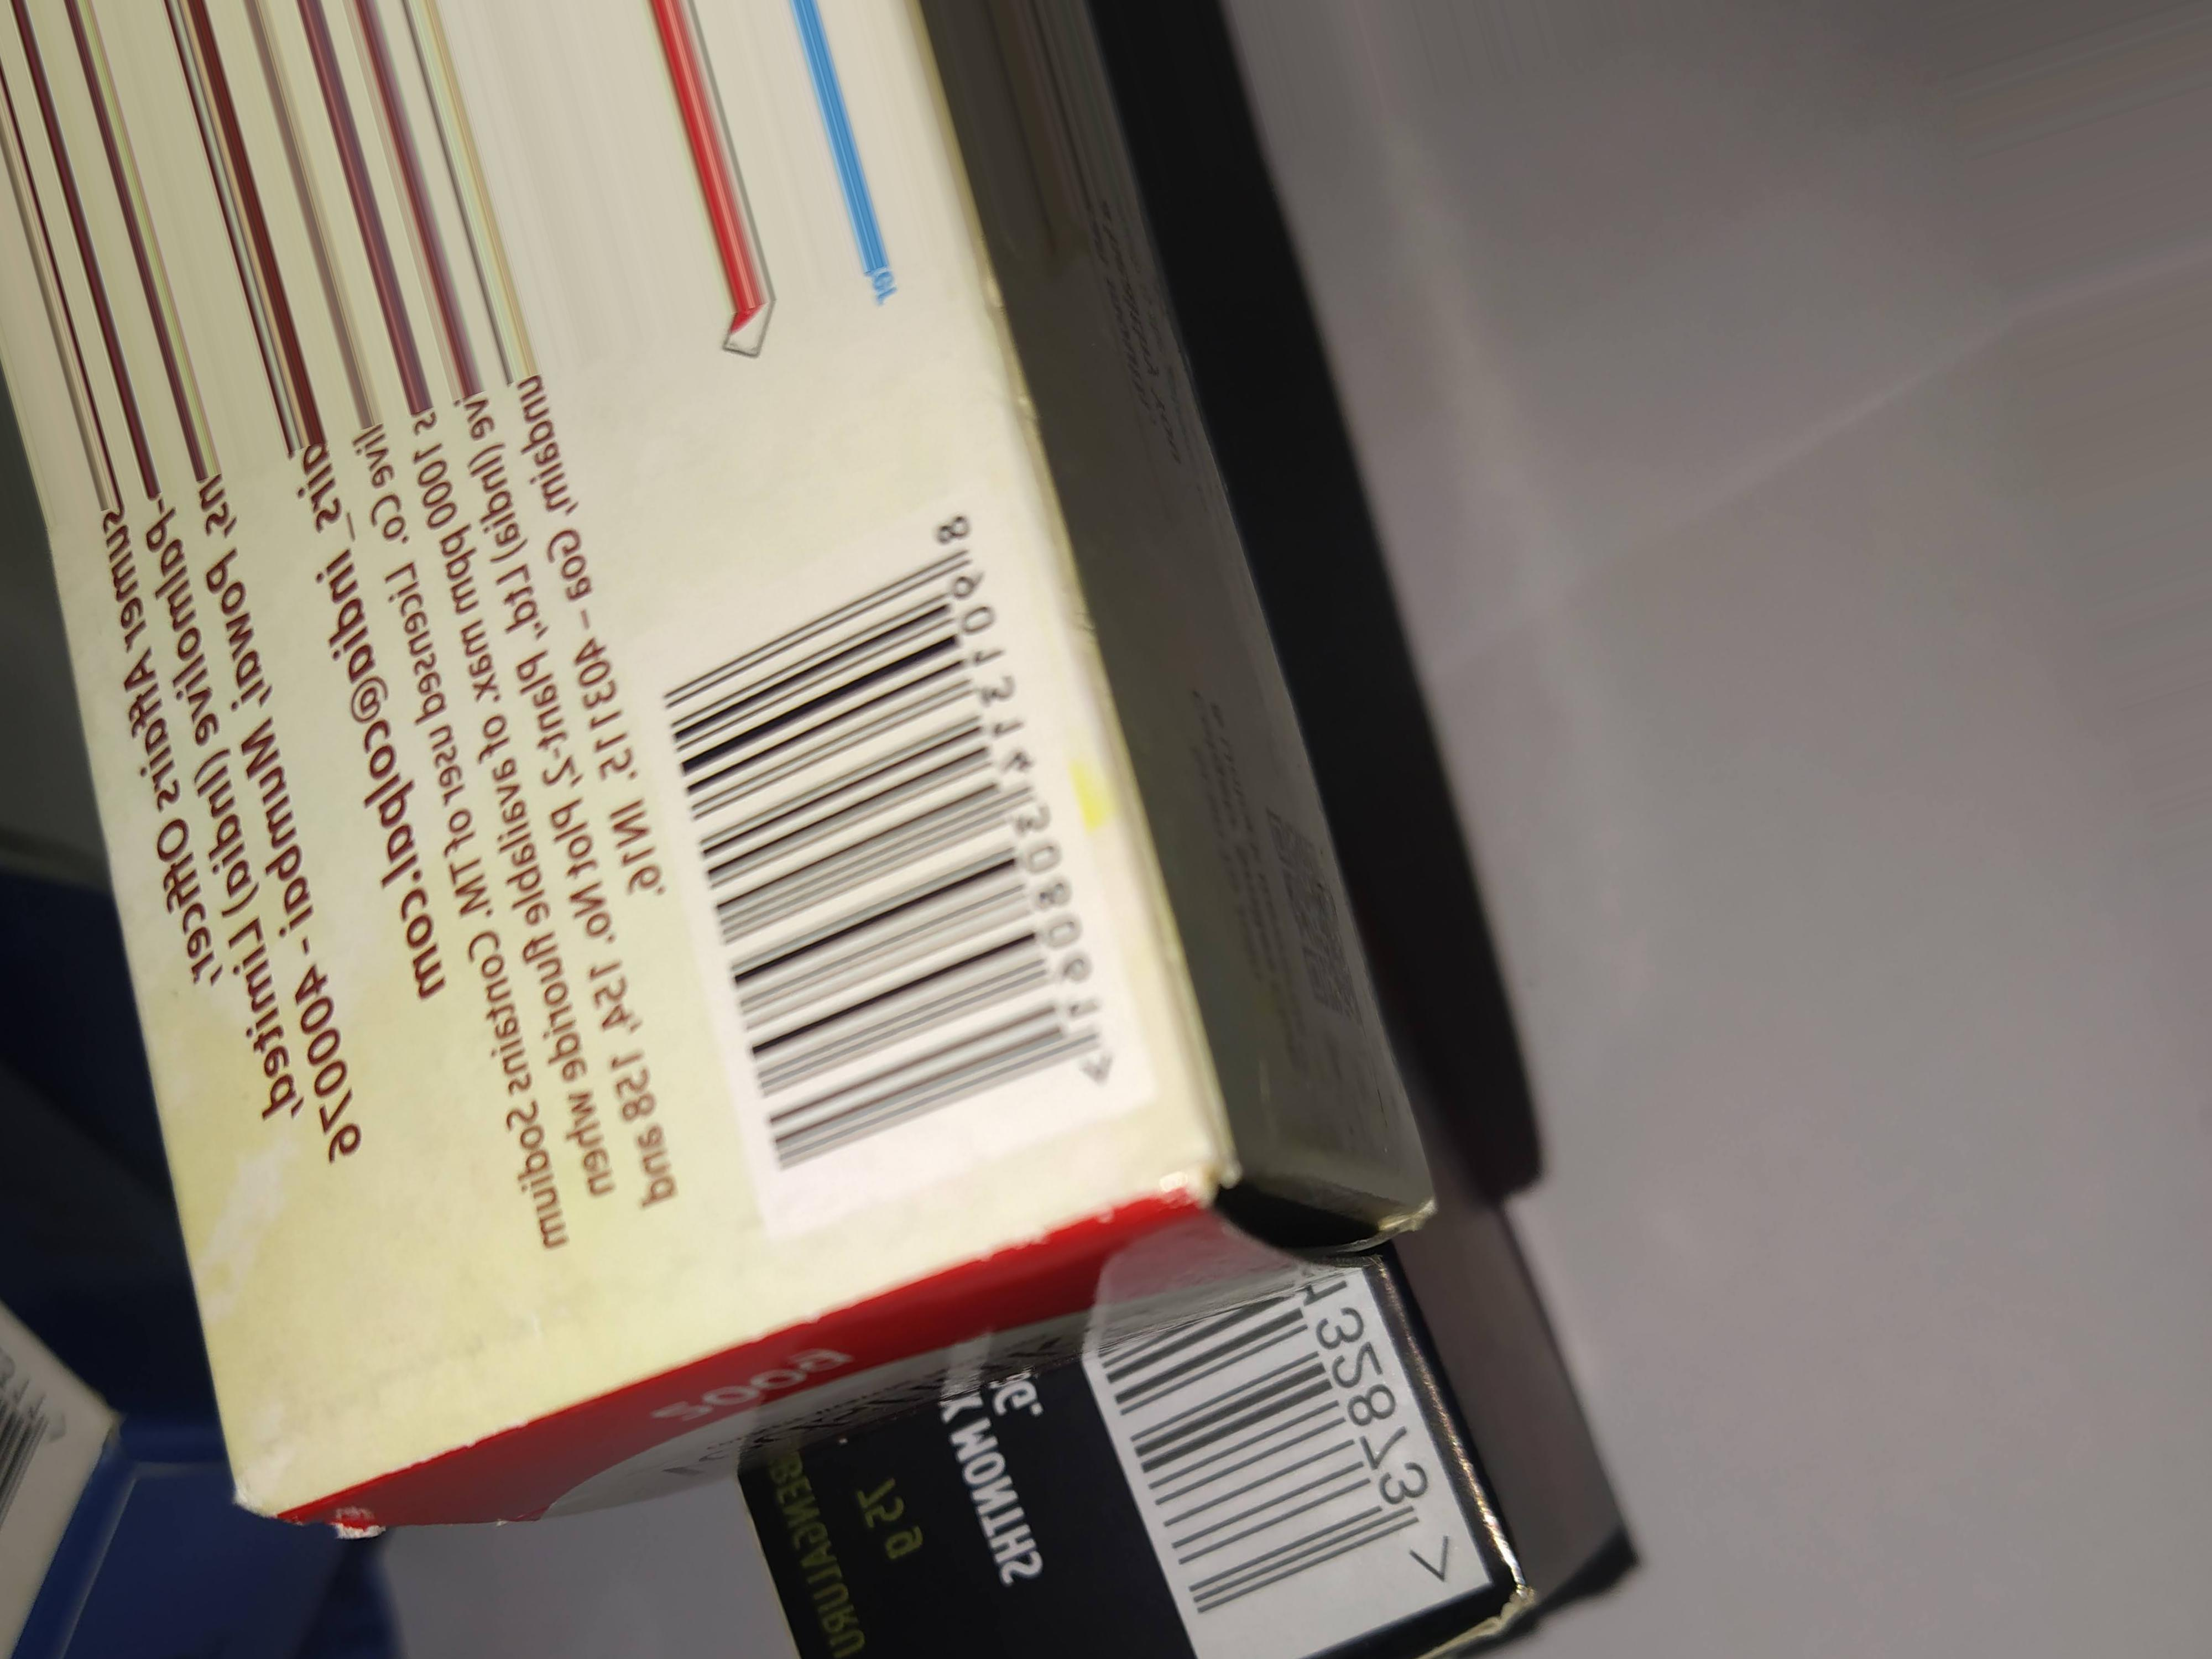Bar_code: (658, 490, 1167, 1171), (1089, 1249, 1484, 1633)
